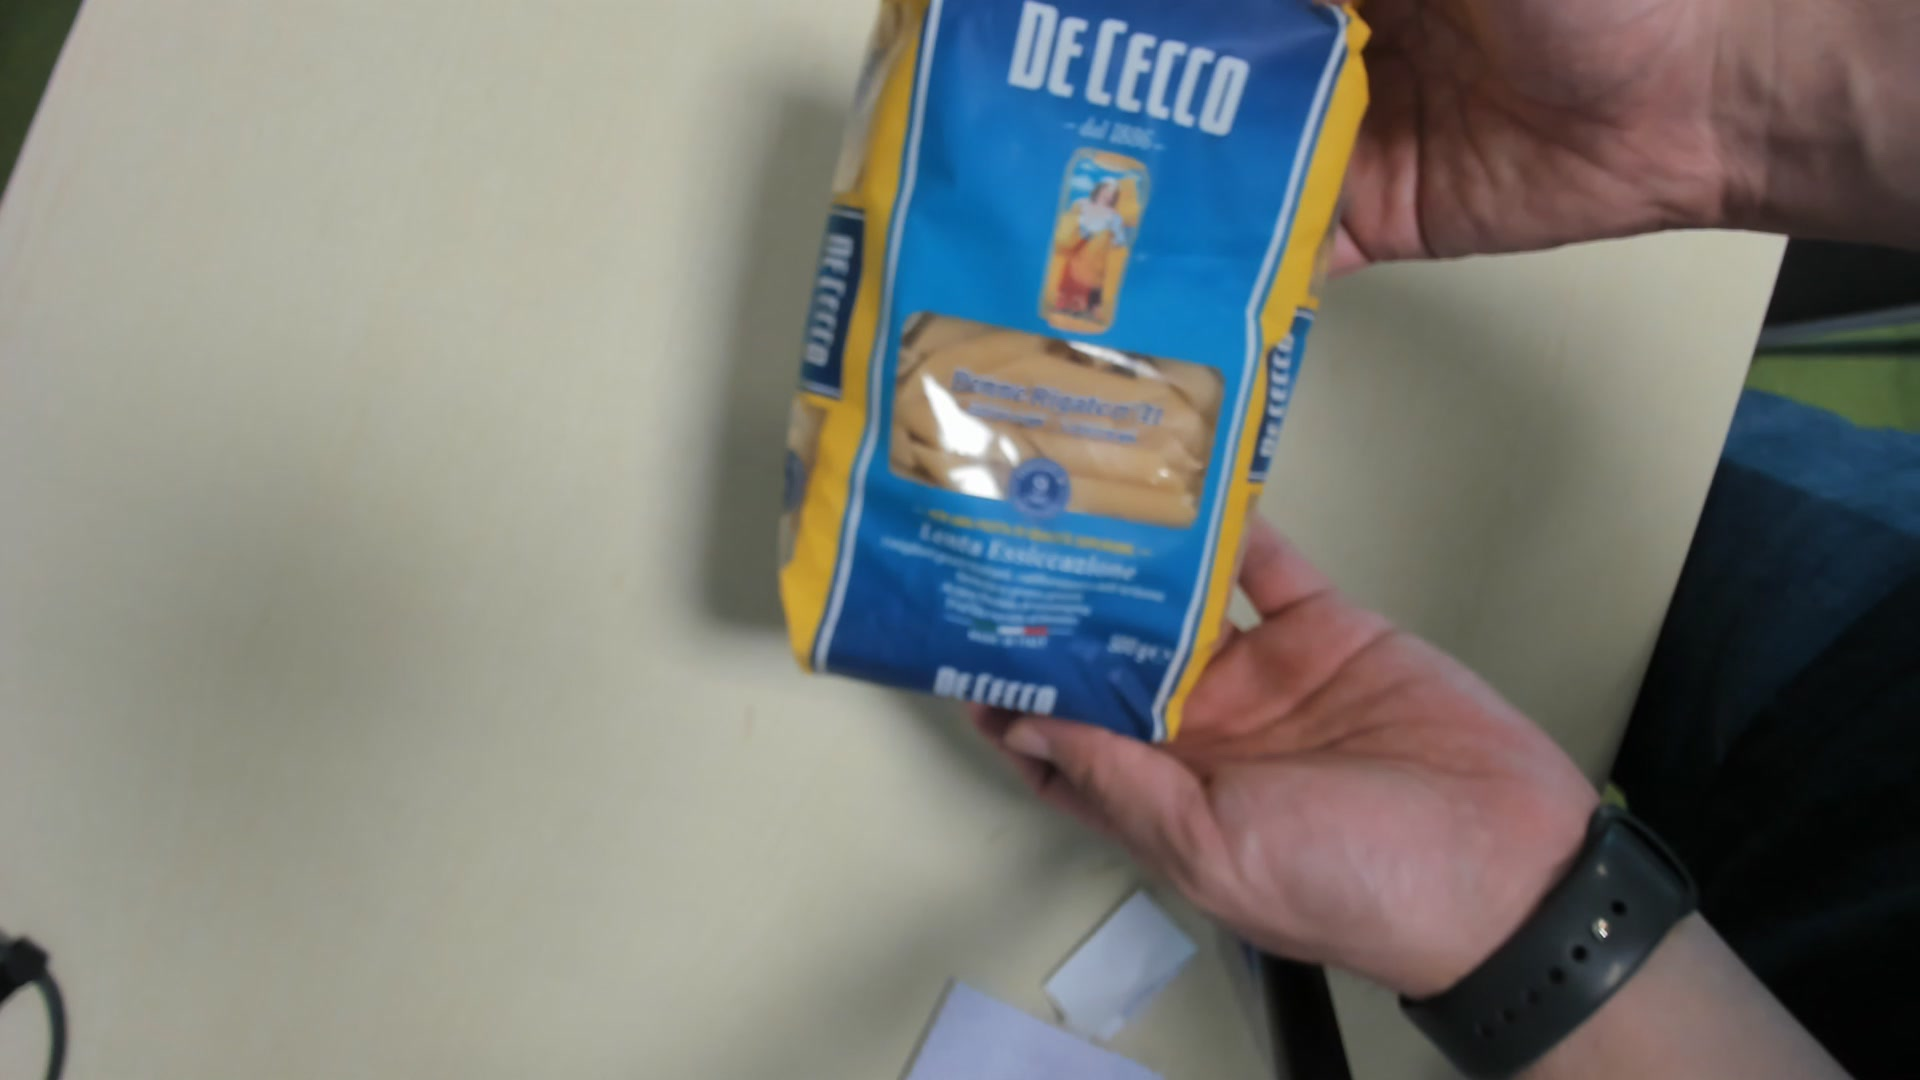Pasta_500-599g_NonHalal_NonHealthy: (781, 7, 1366, 745)
